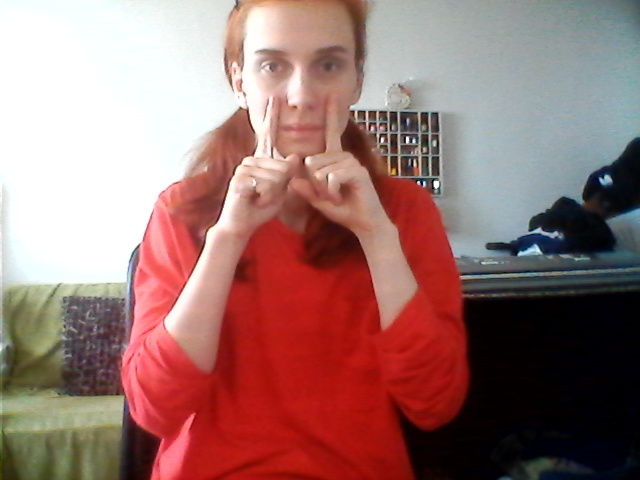h: (234, 96, 375, 221)
